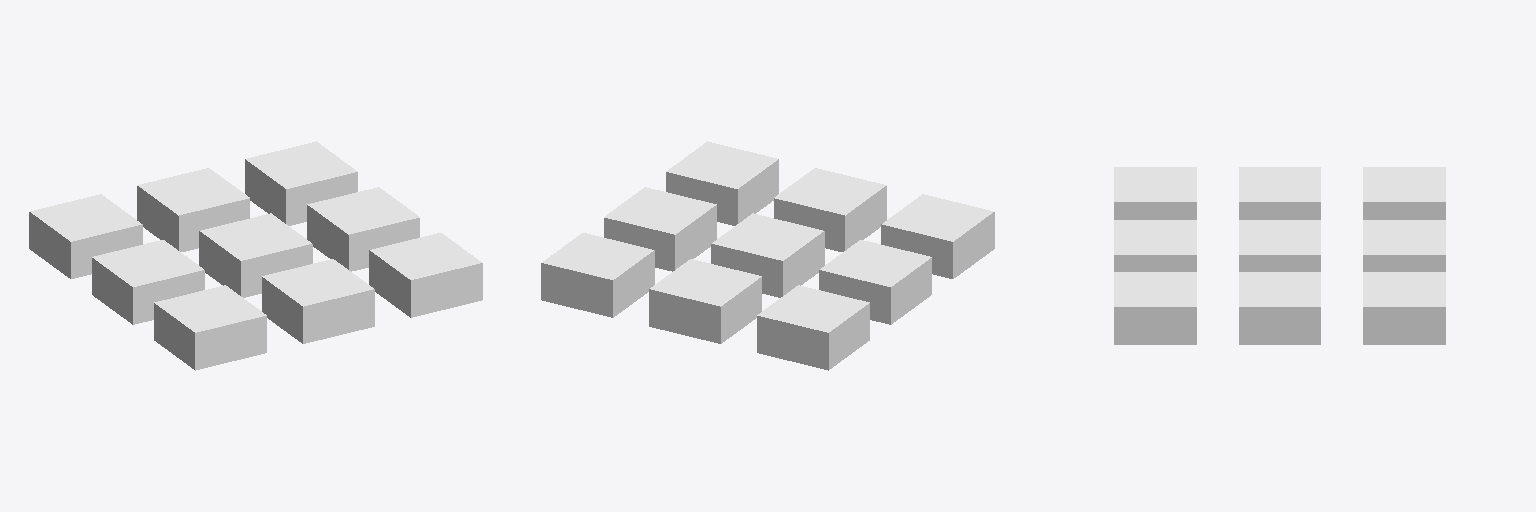
File: spikes3_disabled.obj
The picture shows the model from 3 angles: view 1: azimuth 30°, elevation 25°; view 2: azimuth 150°, elevation 25°; view 3: azimuth 270°, elevation 25°; orthographic projection.
Visible parts, largest first — view 1: object 1; view 2: object 1; view 3: object 1.
Part boxes in pixels (left/top/right/bottom): object 1: left=29, top=141, right=482, bottom=370; object 1: left=541, top=141, right=994, bottom=370; object 1: left=1114, top=167, right=1445, bottom=344.
Bounding box in the file's own units: 0.8 × 0.1 × 0.8.